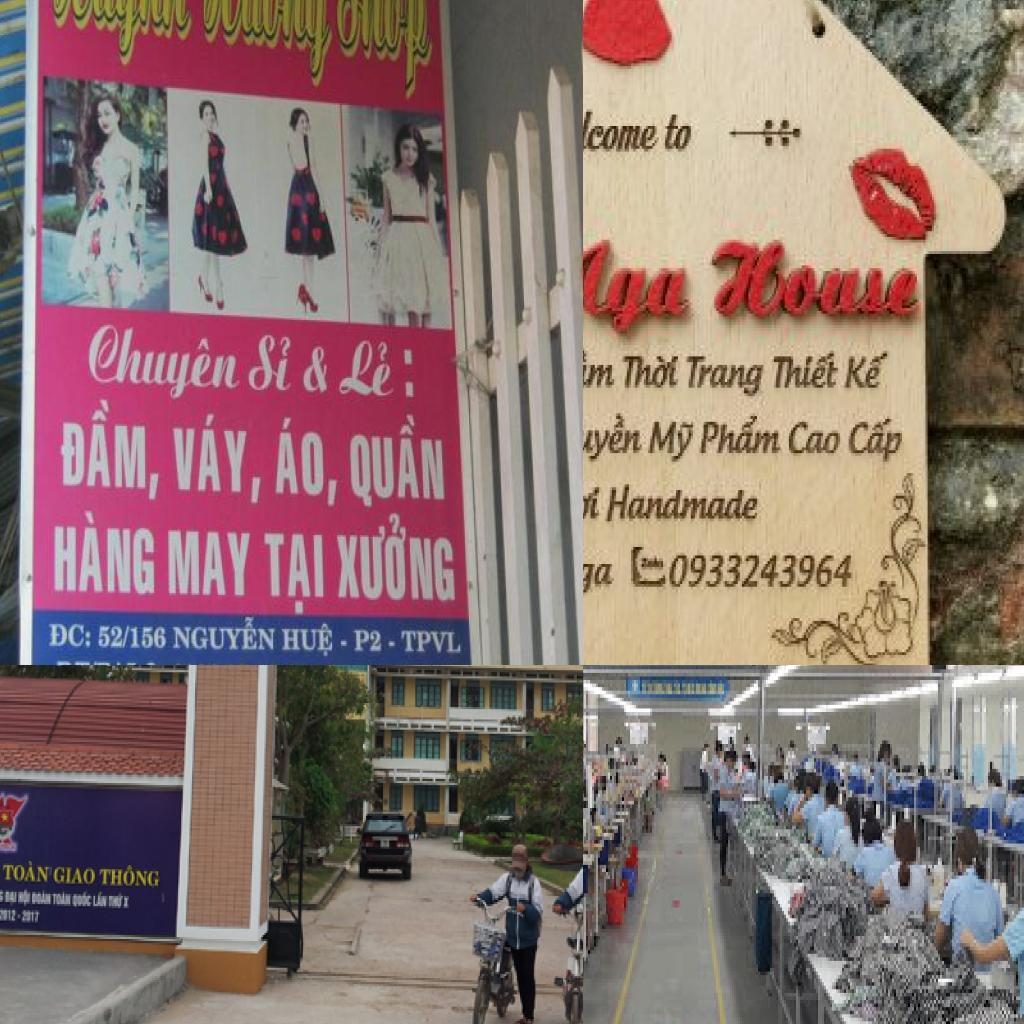text: (700, 228, 926, 328), (583, 225, 693, 339), (196, 0, 333, 86), (58, 395, 162, 504), (333, 513, 456, 605), (86, 324, 241, 395), (334, 0, 435, 105), (49, 0, 192, 67), (52, 508, 158, 598), (350, 414, 448, 511), (172, 409, 264, 508), (665, 550, 857, 595), (606, 479, 764, 530), (166, 528, 254, 600), (273, 414, 340, 506), (583, 91, 660, 168), (260, 532, 326, 617), (684, 348, 768, 405), (695, 413, 785, 462), (583, 413, 652, 470), (337, 339, 397, 402), (168, 617, 277, 651), (245, 330, 296, 399), (768, 351, 840, 396), (844, 416, 906, 467), (644, 416, 701, 470), (623, 345, 680, 396), (787, 413, 846, 462), (398, 624, 464, 661), (842, 348, 892, 393), (281, 620, 337, 660), (661, 103, 697, 160), (583, 344, 620, 393), (98, 863, 161, 890), (583, 550, 616, 601), (1, 861, 52, 888), (48, 622, 94, 651), (351, 622, 385, 656), (583, 481, 607, 527), (52, 863, 98, 886), (131, 626, 167, 650), (96, 624, 124, 649), (16, 912, 22, 920)
